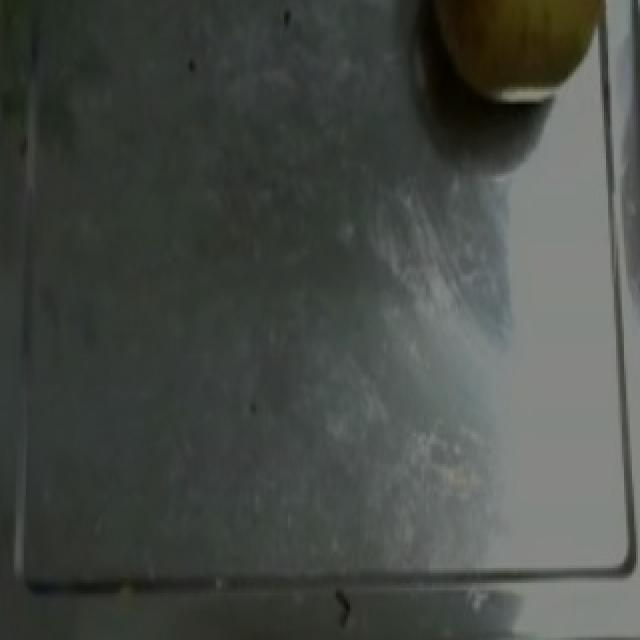fruit: (426, 0, 610, 114)
